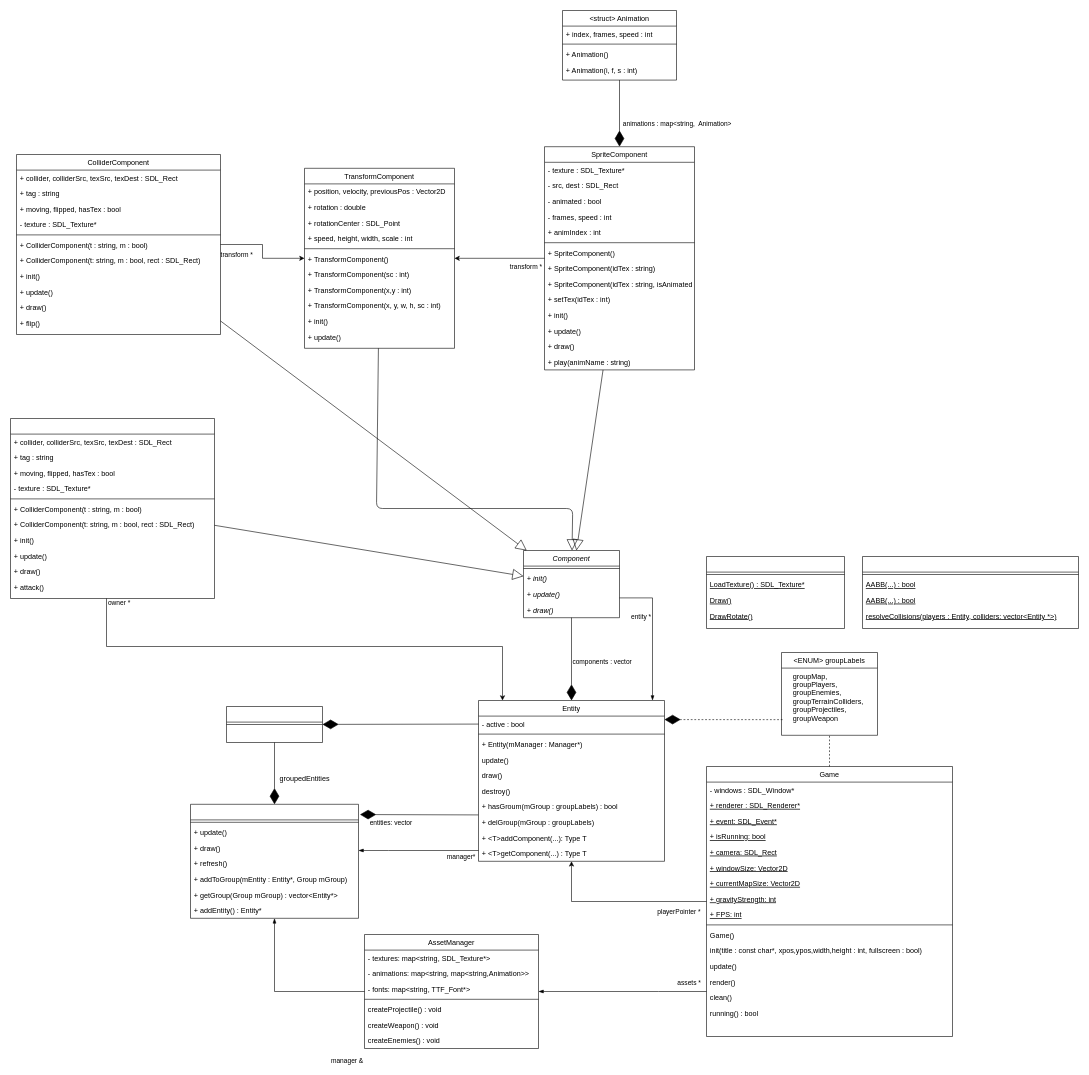
This 1089x1075 diagram has some shape labels left out. The shapes that lost their labels are listed below. From the top down, each one's box as (x1, y1, x2, y2) in pixels, then its label:
(10, 418, 214, 598): WeaponComponent
(706, 556, 844, 628): TextureManager
(862, 556, 1078, 628): Collison
(226, 706, 322, 742): vector
(190, 804, 358, 918): Manager
